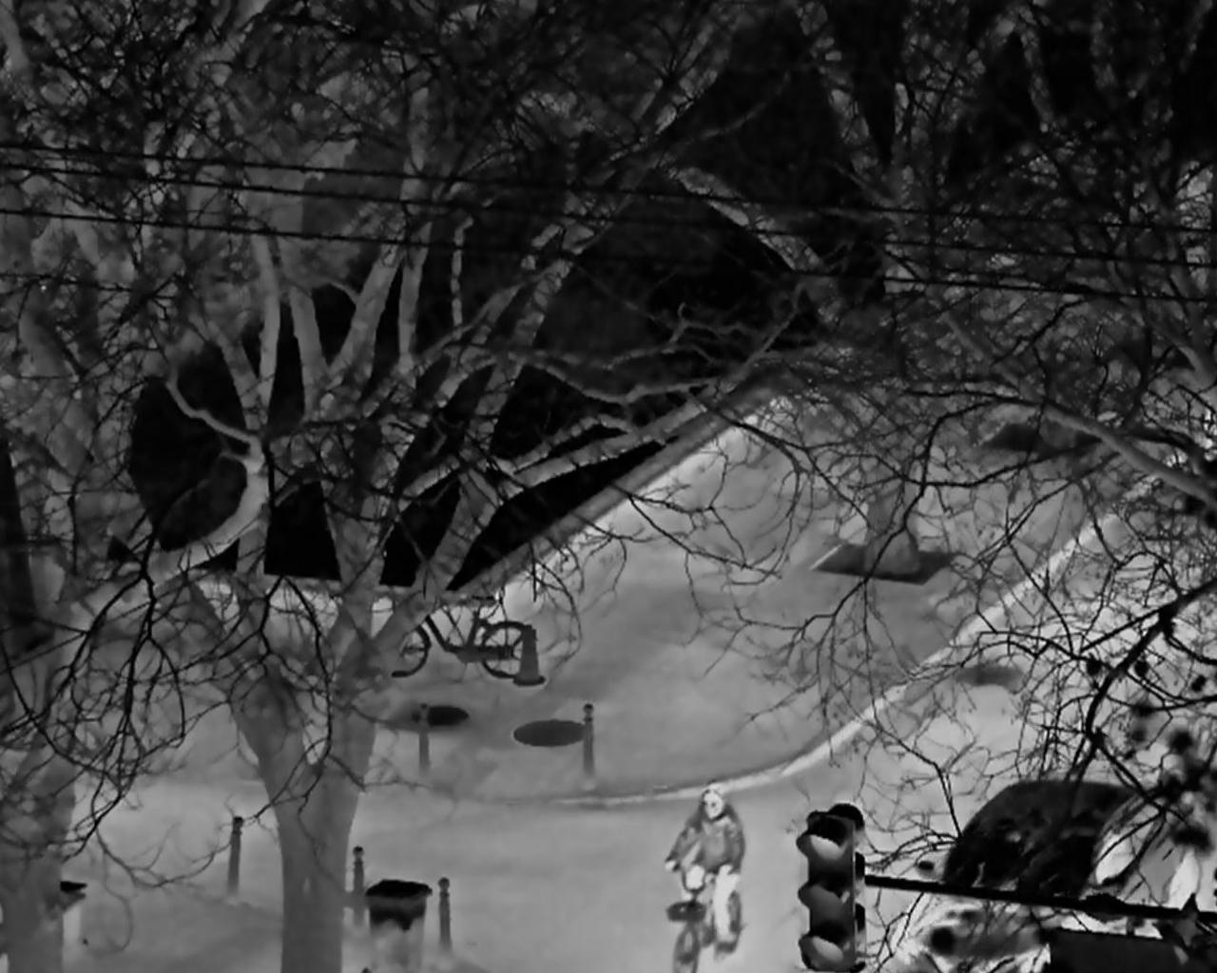person: (664, 782, 743, 962)
